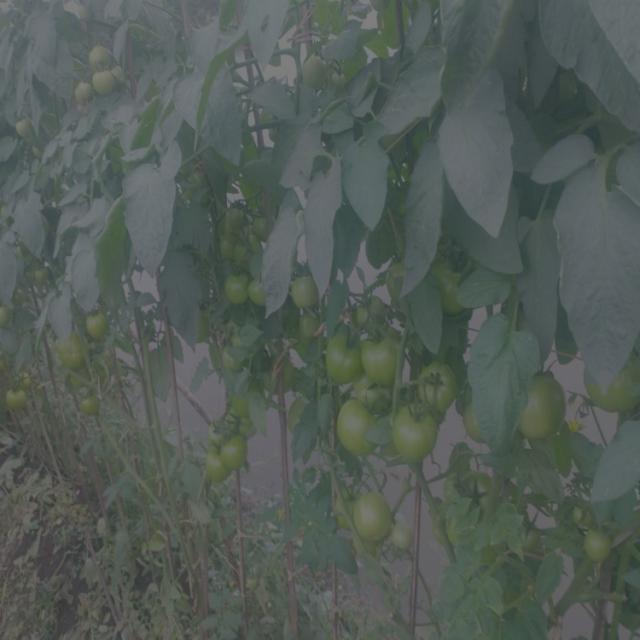tomato: (582, 348, 640, 417), (517, 367, 568, 439), (207, 416, 253, 488), (337, 396, 381, 459), (434, 256, 479, 315), (218, 212, 272, 256), (355, 490, 392, 543), (462, 470, 500, 520), (367, 333, 403, 385), (421, 365, 461, 411), (575, 525, 615, 569), (332, 330, 364, 381), (394, 420, 436, 456), (94, 45, 127, 89), (463, 406, 496, 447), (218, 269, 253, 305), (63, 334, 91, 373), (306, 52, 339, 85), (295, 280, 326, 307), (8, 377, 35, 407), (255, 275, 279, 307), (521, 514, 541, 548), (91, 312, 112, 336), (80, 401, 106, 416), (32, 266, 51, 286), (75, 85, 91, 108), (18, 120, 38, 137), (398, 527, 413, 548), (1, 304, 14, 326)
